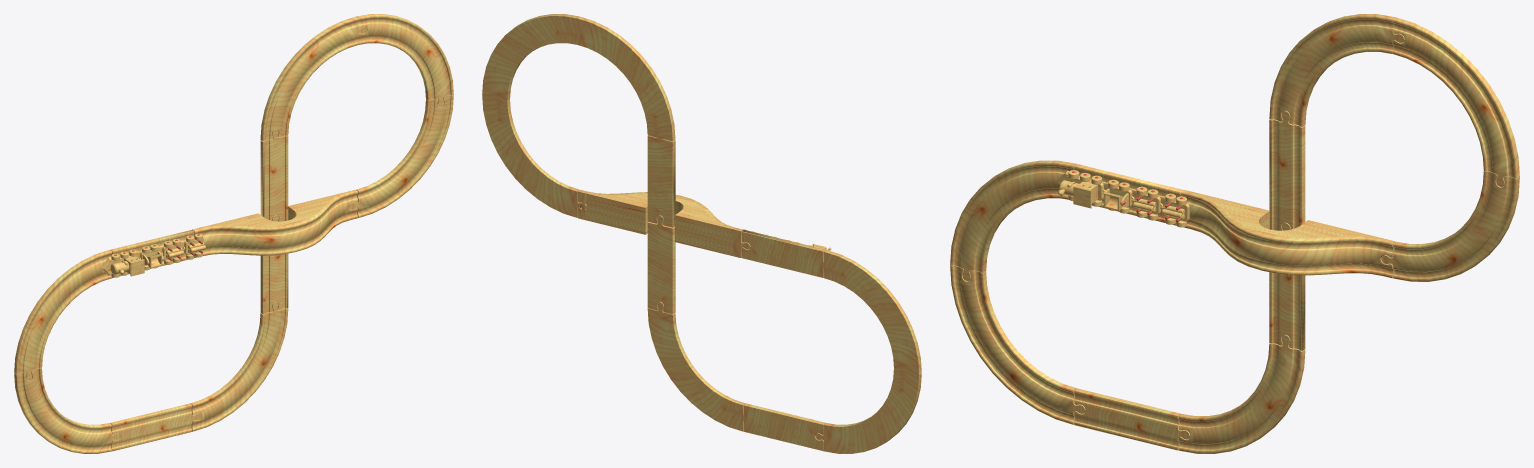
The model's file is sweethome3d-lucapresidente-train.glb.
3 views of the same model, side by side, from view 1: azimuth 30°, elevation 25°; view 2: azimuth 150°, elevation 25°; view 3: azimuth 330°, elevation 25° (orthographic). The views are drawn at different scales.
Visible parts, largest first — view 1: Loft002_1, Loft021_10, Loft018_4, Loft019_12, Loft003_7, Loft017_6, Loft020_9, Line035_5, Line039_11, Line036_3, Line009_2, Line006_8; view 2: Line009_2, Loft021_10, Loft003_7, Loft018_4, Loft019_12, Loft020_9, Loft017_6, Line036_3, Line039_11, Line006_8, Line035_5, Loft002_1; view 3: Loft002_1, Loft020_9, Loft017_6, Loft018_4, Loft019_12, Loft021_10, Loft003_7, Line035_5, Line039_11, Line036_3, Line009_2, Line006_8.
Boxes of the visible parts, x1,y1,x2,y2 form: Loft002_1: [192, 189, 358, 257]; Loft021_10: [260, 16, 358, 141]; Loft018_4: [190, 308, 288, 431]; Loft019_12: [356, 95, 453, 217]; Loft003_7: [14, 250, 111, 374]; Loft017_6: [14, 368, 111, 453]; Loft020_9: [356, 14, 453, 100]; Line035_5: [110, 403, 192, 451]; Line039_11: [260, 135, 288, 221]; Line036_3: [260, 253, 288, 314]; Line009_2: [202, 192, 347, 227]; Line006_8: [110, 230, 194, 277]; Line009_2: [586, 192, 733, 256]; Loft021_10: [577, 16, 675, 141]; Loft003_7: [824, 250, 921, 374]; Loft018_4: [647, 308, 745, 431]; Loft019_12: [482, 95, 579, 217]; Loft020_9: [482, 14, 579, 100]; Loft017_6: [824, 368, 921, 453]; Line036_3: [647, 222, 675, 314]; Line039_11: [647, 135, 675, 227]; Line006_8: [741, 229, 825, 277]; Line035_5: [743, 403, 825, 451]; Loft002_1: [577, 190, 743, 257]; Loft002_1: [1181, 190, 1395, 278]; Loft020_9: [1393, 17, 1519, 178]; Loft017_6: [950, 265, 1076, 424]; Loft018_4: [1178, 343, 1305, 453]; Loft019_12: [1393, 171, 1519, 281]; Loft021_10: [1269, 14, 1395, 126]; Loft003_7: [950, 160, 1076, 272]; Line035_5: [1073, 388, 1180, 450]; Line039_11: [1269, 119, 1305, 230]; Line036_3: [1269, 272, 1305, 350]; Line009_2: [1192, 192, 1383, 239]; Line006_8: [1074, 164, 1183, 225].
Size of the model in its own units: 119 by 97 by 10.21.
Materials: 2 (1 with a texture image).
